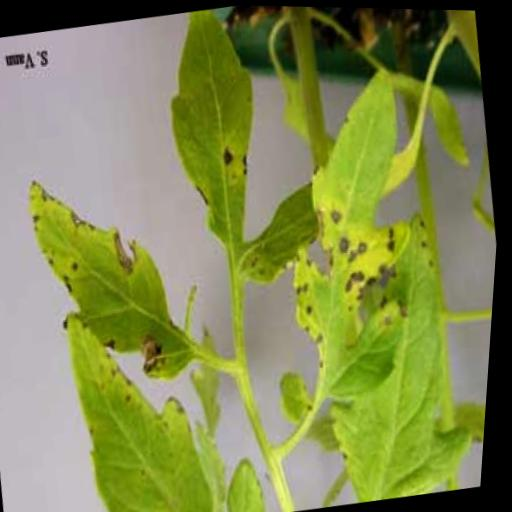Bacterial Spot: (246, 57, 453, 412), (9, 151, 238, 411), (147, 3, 286, 276)
